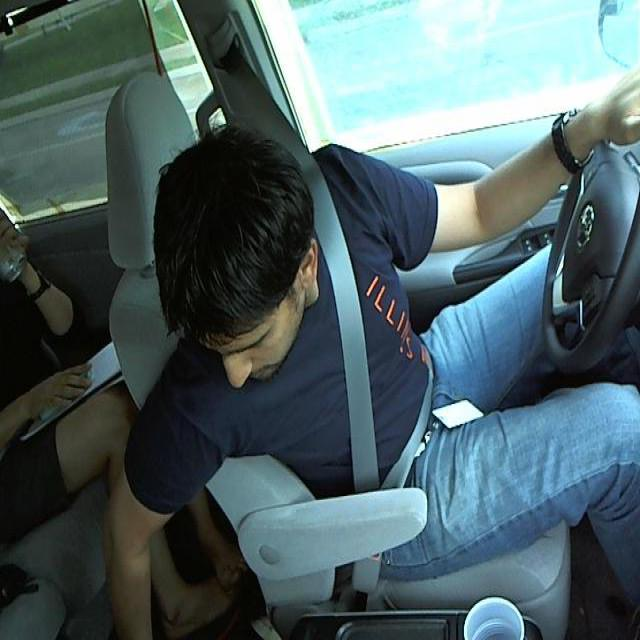seatbelt: (318, 248, 453, 499)
